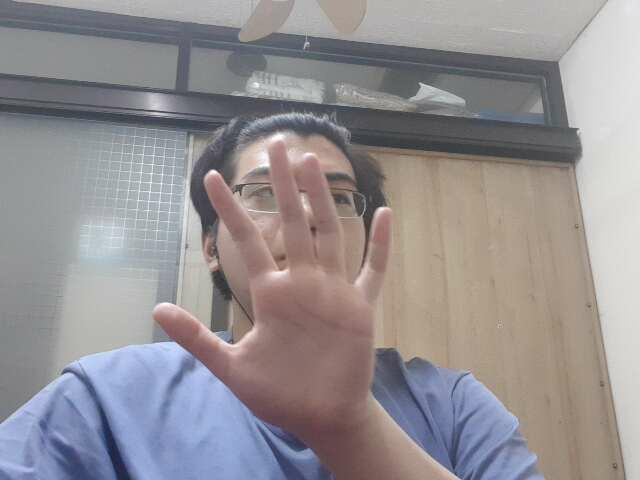hello: (149, 137, 394, 439)
